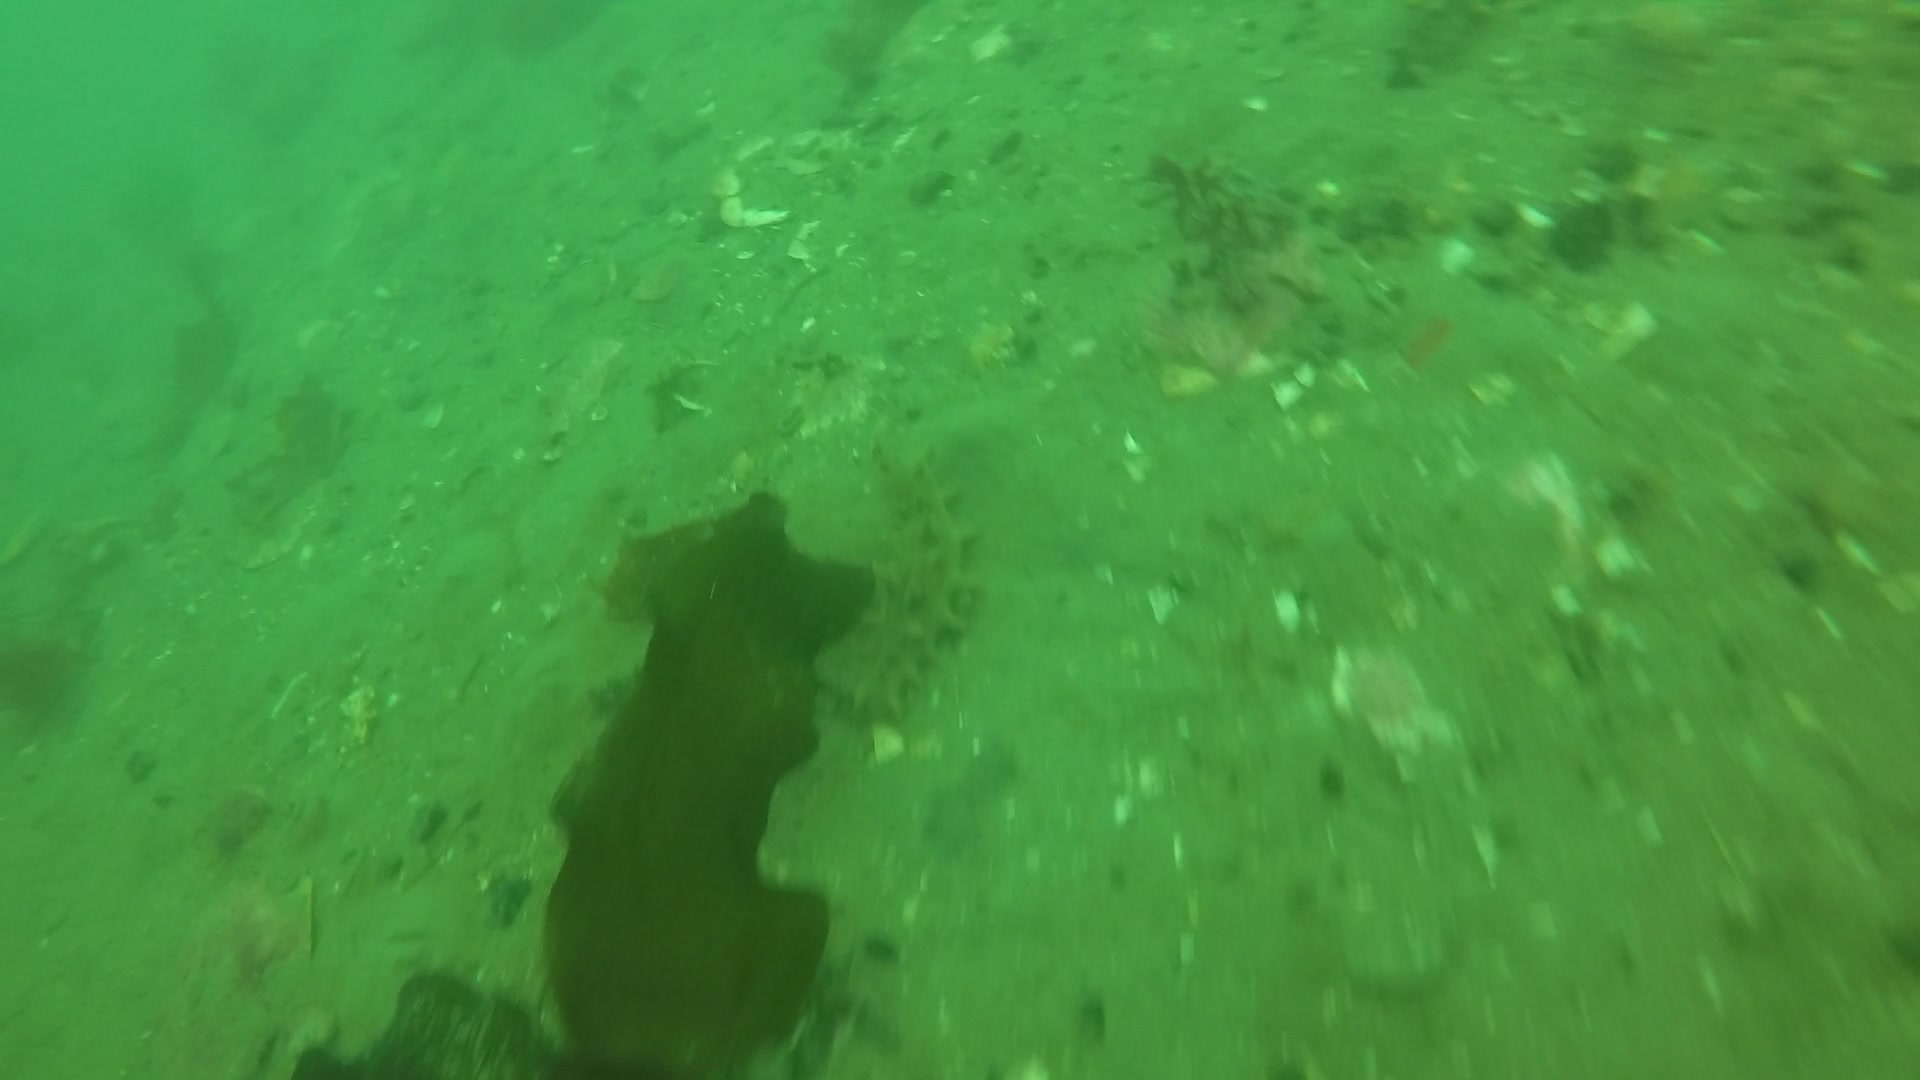holothurian: (829, 447, 978, 723)
scallop: (164, 881, 319, 1072)
